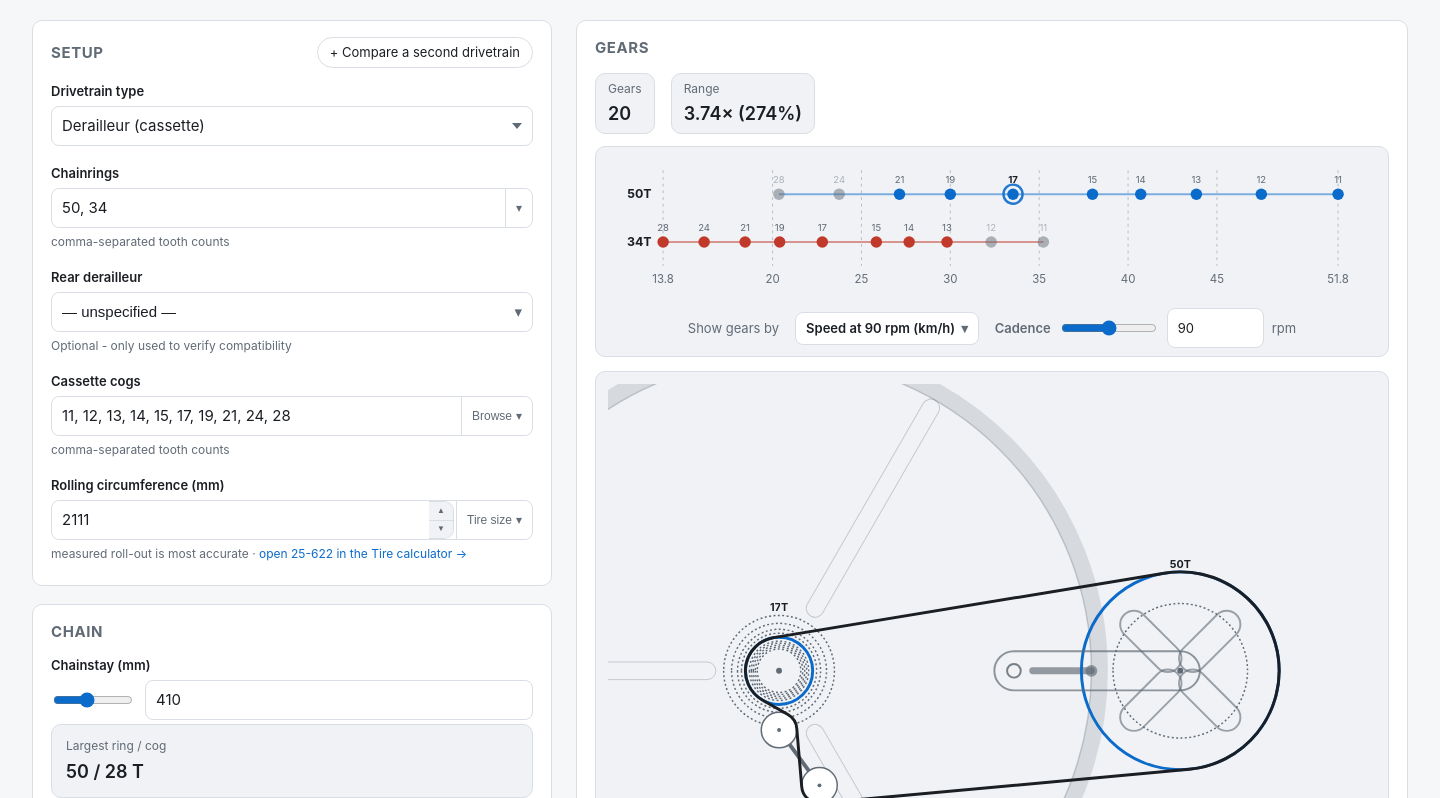
Test: Drivetrain page › auto-shows a derailleur + cassette row only for a derailleur-compatible hub
Select "Internal gears" in the dropdown at (292, 126), box [51, 106, 533, 146]
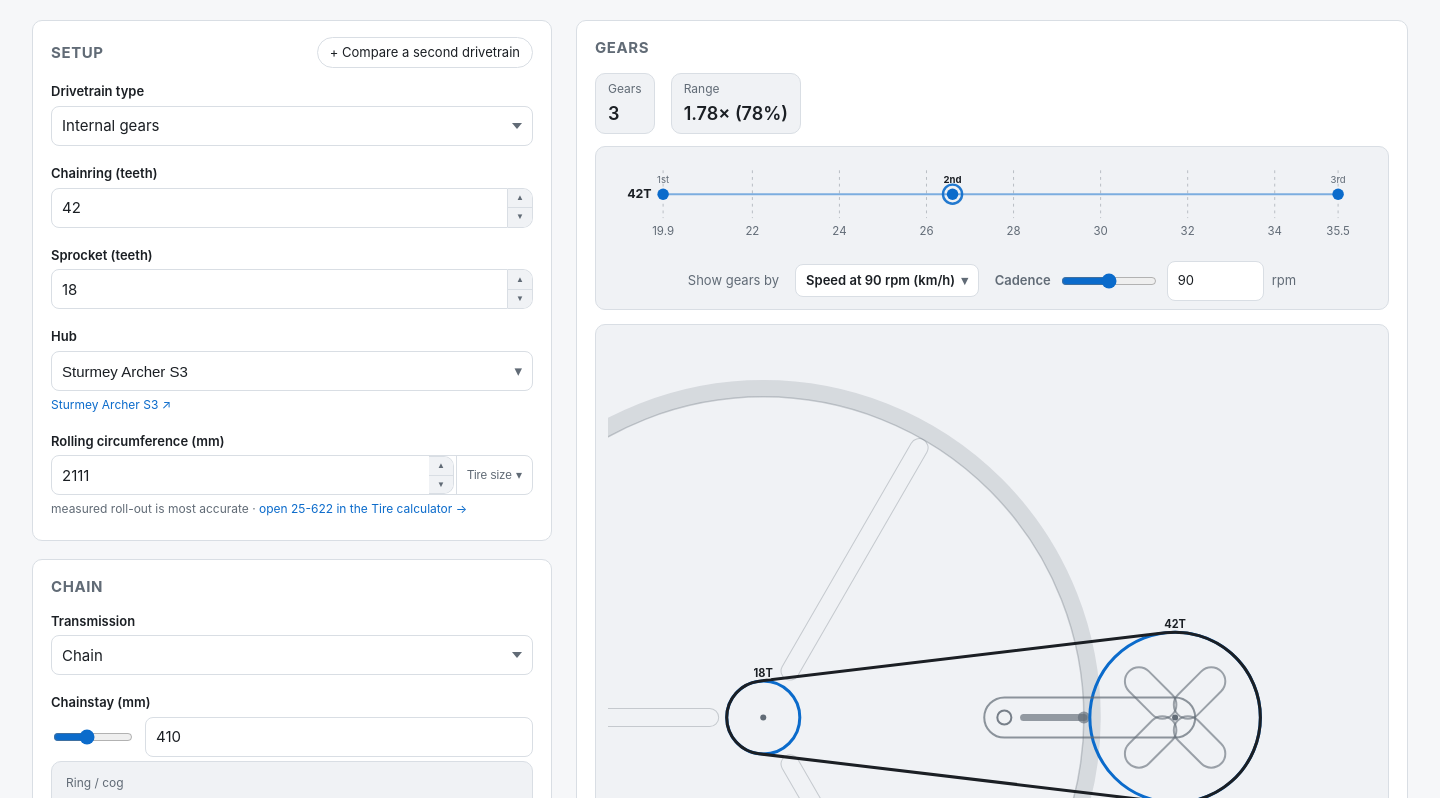
Expected: the text "designed to be combined with a derailleur" is not shown
Result: the text "Rear derailleur" is gone
Click the button titled "Browse the hub database" at (125, 371), box [51, 351, 533, 391]
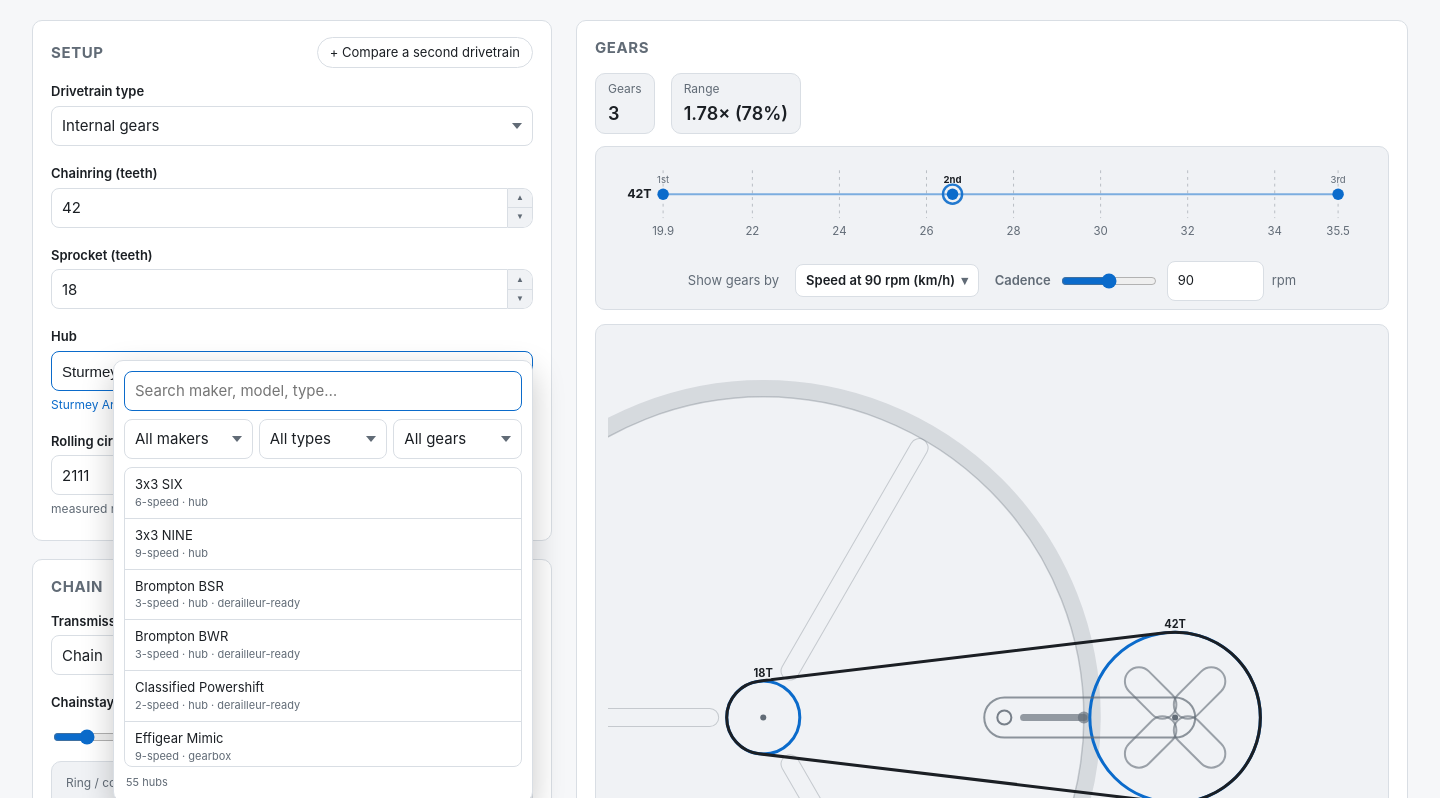
Type "classified" into the field with class "cp-search" at (323, 391), box [124, 371, 522, 411]
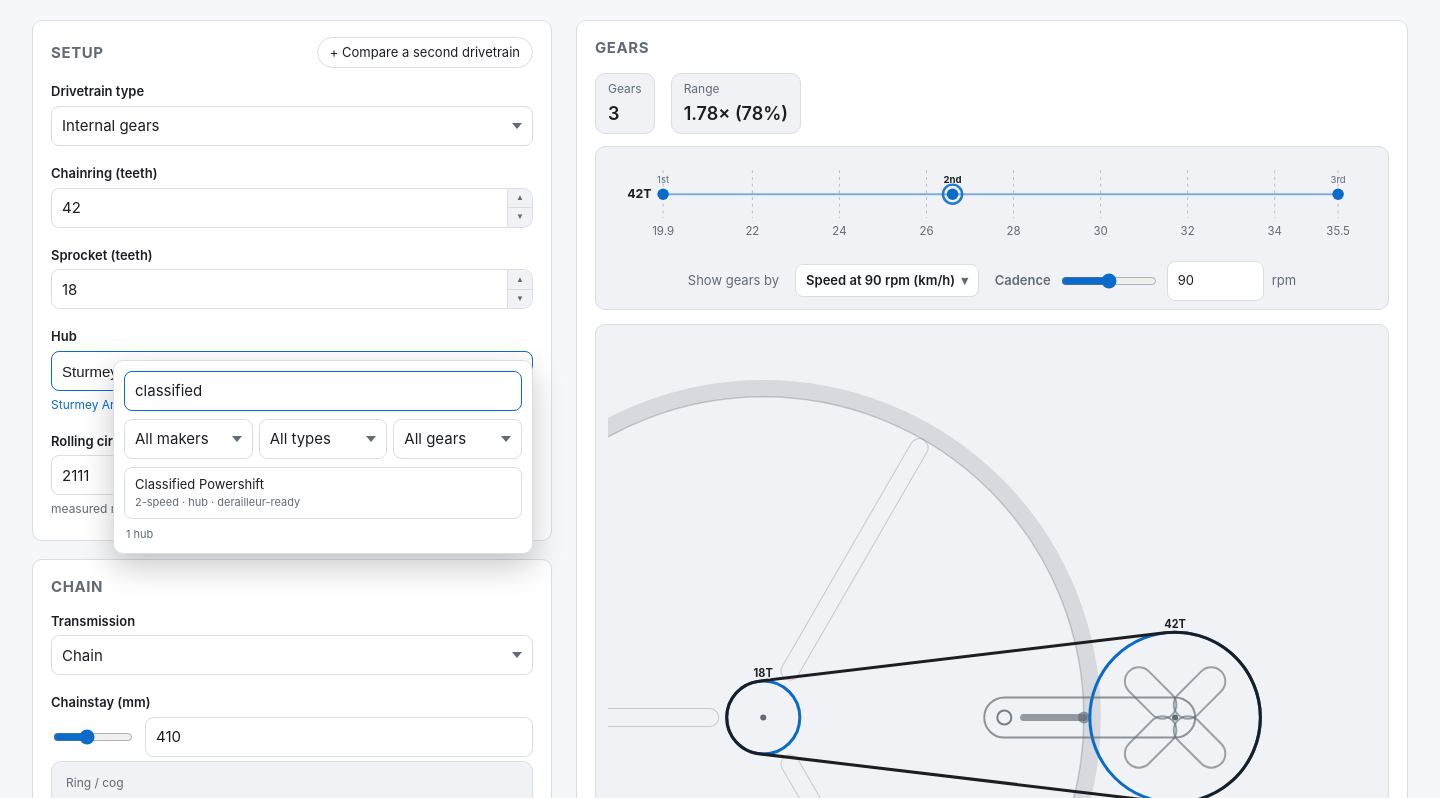
Click the button "Classified Powershift 2-speed · hub · derailleur-ready" at (199, 484), box [125, 468, 521, 518]
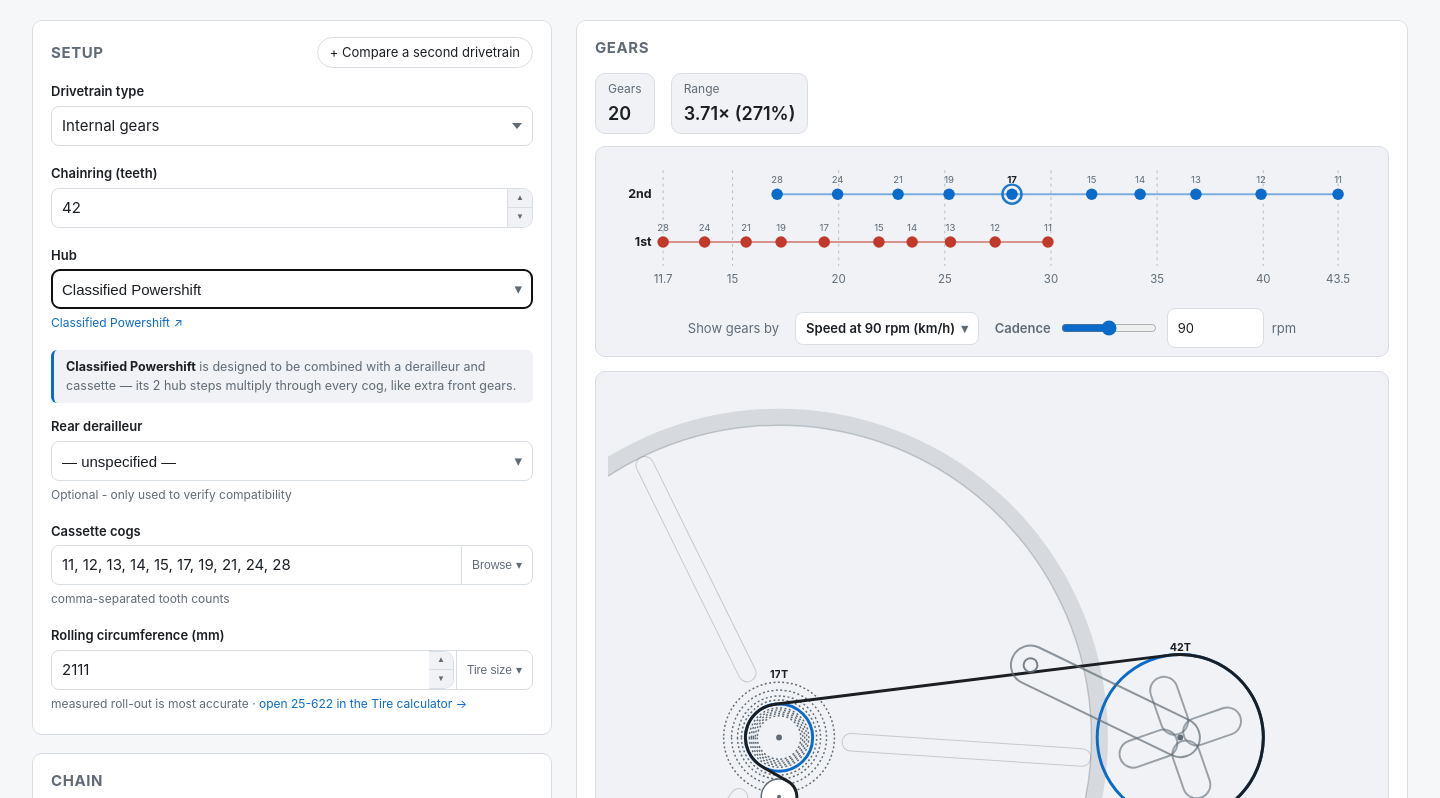
Result: the text "designed to be combined with a derailleur" is shown at [66, 359, 486, 393]
Result: the text "Rear derailleur" is shown at [51, 418, 142, 434]
Result: the button titled "Browse the cassette database" is shown at [461, 546, 532, 584]
